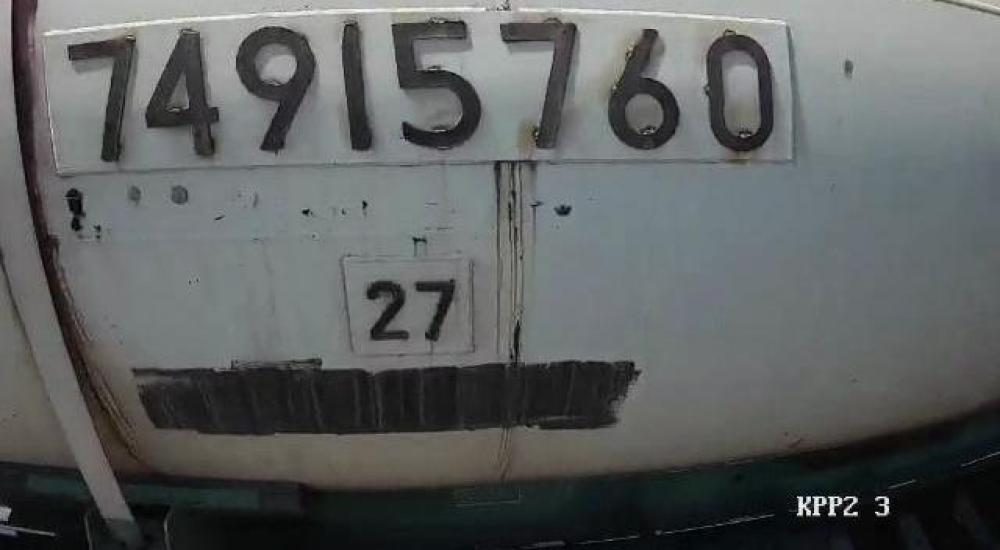Wagon-number: (63, 13, 786, 172)
